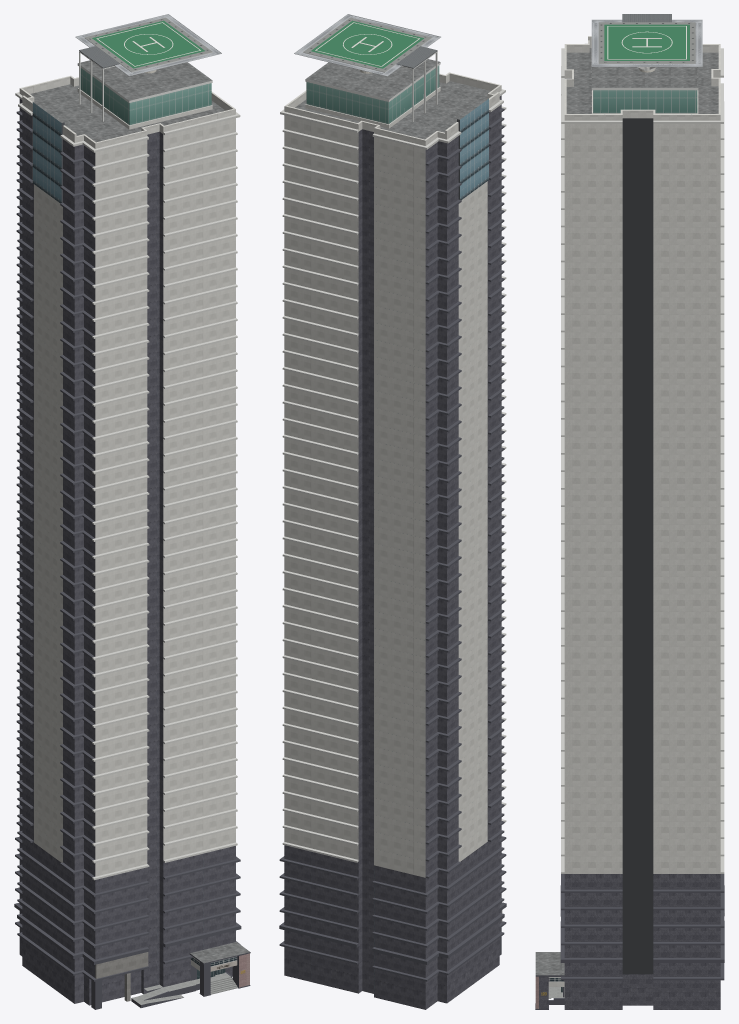
File: HighriseTower103_L1_5x4_LOD1.fbx
3 renders of one model, left to right at view 1: azimuth 30°, elevation 25°; view 2: azimuth 150°, elevation 25°; view 3: azimuth 270°, elevation 25°, orthographic. The views are drawn at different scales.
Visible parts, largest first — view 1: HighriseTower103_L1_5x4_LOD1; view 2: HighriseTower103_L1_5x4_LOD1; view 3: HighriseTower103_L1_5x4_LOD1.
Boxes of the visible parts, x1=… form: HighriseTower103_L1_5x4_LOD1: x1=14, y1=14, x2=250, y2=1009; HighriseTower103_L1_5x4_LOD1: x1=279, y1=14, x2=506, y2=1009; HighriseTower103_L1_5x4_LOD1: x1=535, y1=14, x2=724, y2=1009.
Bounding box in the file's own units: 2850 × 15877 × 2884.
Materials: 1 (1 with a texture image).
